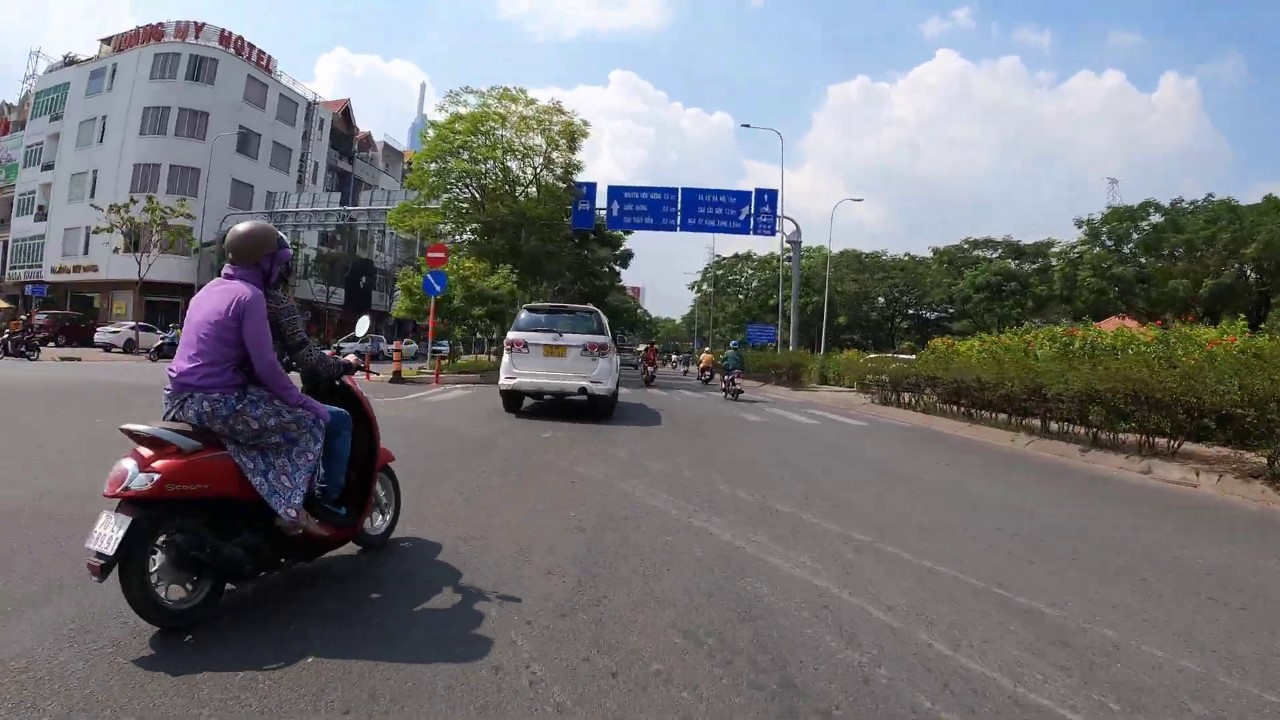cam_nguoc_chieu: (425, 242, 449, 268)
huong_phai_di_vong: (421, 271, 448, 296)
